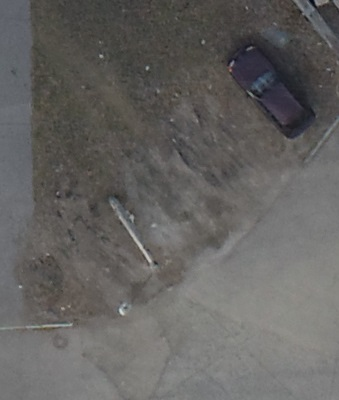opora: (106, 194, 160, 318)
